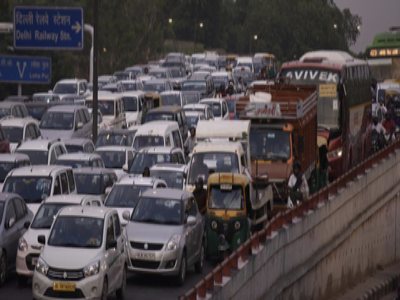licence: (51, 277, 79, 294), (137, 250, 157, 260)
